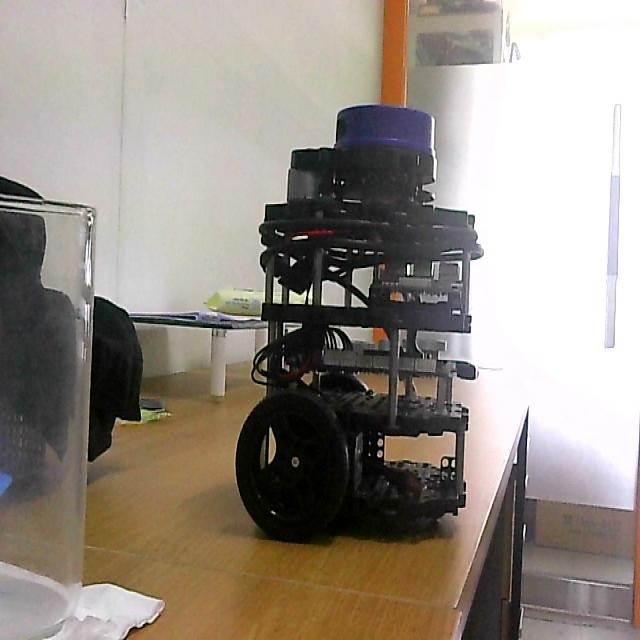turtle: (230, 100, 486, 542)
